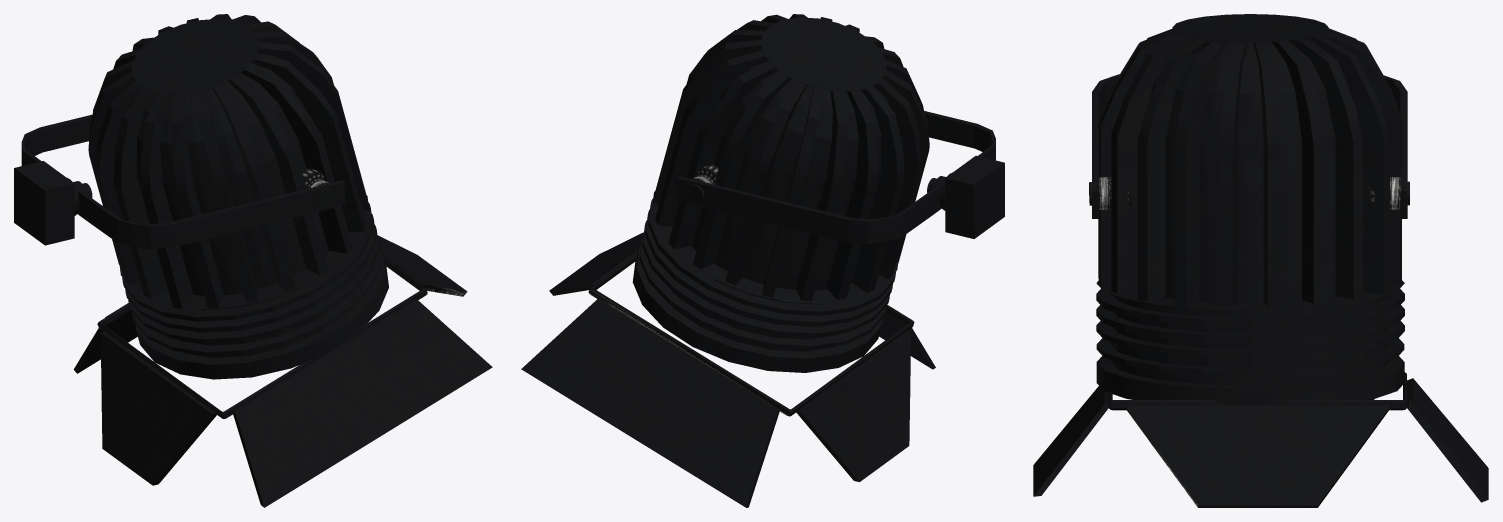
The model's file is projecteur.fbx.
The picture shows the model from 3 angles, left to right: view 1: azimuth 30°, elevation 25°; view 2: azimuth 150°, elevation 25°; view 3: azimuth 270°, elevation 25°; orthographic projection. The views are drawn at different scales.
Visible parts, largest first — view 1: projecteur4:pCylinder1, projecteur4:group2_pasted__pCube4, projecteur4:pCube1, projecteur4:pCube2, projecteur4:pasted__pCylinder2; view 2: projecteur4:pCylinder1, projecteur4:group2_pasted__pCube4, projecteur4:pCube1, projecteur4:pCube2, projecteur4:pasted__pasted__pCylinder2; view 3: projecteur4:pCylinder1, projecteur4:group2_pasted__pCube4, projecteur4:pCube1, projecteur4:pasted__pCylinder2, projecteur4:pasted__pasted__pCylinder2.
Boxes of the visible parts, x1=… form: projecteur4:pCylinder1: x1=88, y1=14, x2=388, y2=379; projecteur4:group2_pasted__pCube4: x1=73, y1=235, x2=492, y2=507; projecteur4:pCube1: x1=21, y1=114, x2=344, y2=249; projecteur4:pCube2: x1=14, y1=161, x2=74, y2=245; projecteur4:pasted__pCylinder2: x1=302, y1=168, x2=335, y2=207; projecteur4:pCylinder1: x1=632, y1=14, x2=929, y2=372; projecteur4:group2_pasted__pCube4: x1=521, y1=232, x2=935, y2=507; projecteur4:pCube1: x1=676, y1=111, x2=995, y2=244; projecteur4:pCube2: x1=945, y1=155, x2=1004, y2=238; projecteur4:pasted__pasted__pCylinder2: x1=686, y1=164, x2=718, y2=203; projecteur4:pCylinder1: x1=1096, y1=14, x2=1404, y2=405; projecteur4:group2_pasted__pCube4: x1=1033, y1=372, x2=1488, y2=507; projecteur4:pCube1: x1=1092, y1=74, x2=1407, y2=218; projecteur4:pasted__pCylinder2: x1=1089, y1=177, x2=1131, y2=209; projecteur4:pasted__pasted__pCylinder2: x1=1368, y1=177, x2=1409, y2=209.
Size of the model in its own units: 1.69 by 1.6 by 1.35.
Materials: 1 (1 with a texture image).
